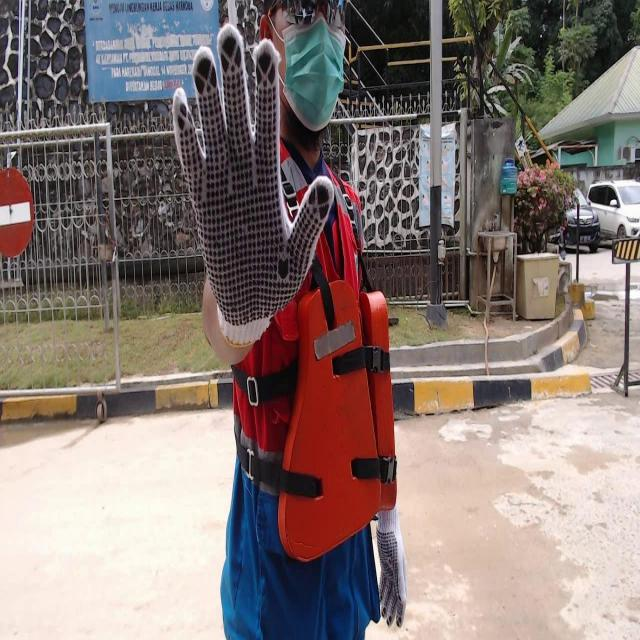vest: (278, 277, 400, 583)
